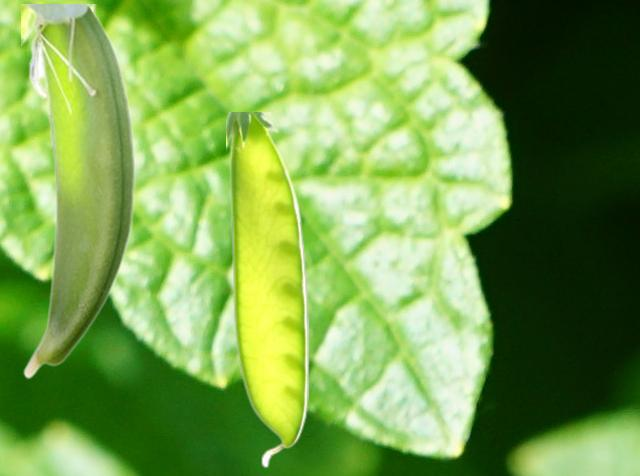pea: (21, 4, 138, 378), (226, 112, 307, 467)
